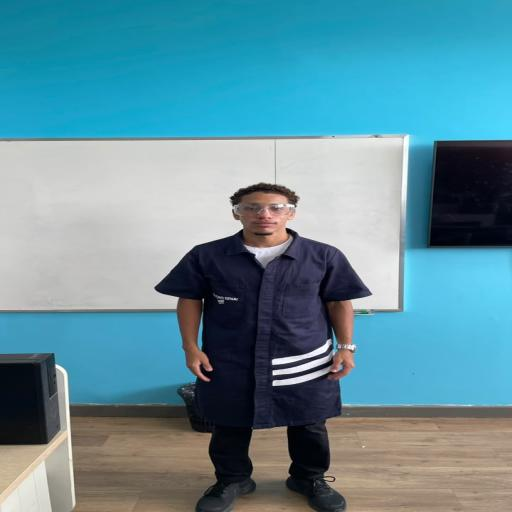OCULOS: (231, 202, 297, 217)
